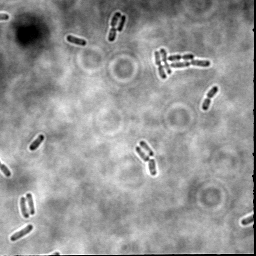Dividing: (200, 84, 220, 112), (107, 11, 123, 43)
Microcolony: (152, 47, 211, 80)
Rod: (9, 223, 34, 242), (28, 133, 45, 152), (65, 33, 88, 47), (138, 139, 154, 157), (18, 196, 30, 219), (25, 193, 36, 216), (135, 146, 149, 163), (147, 158, 158, 177), (117, 14, 127, 34)
